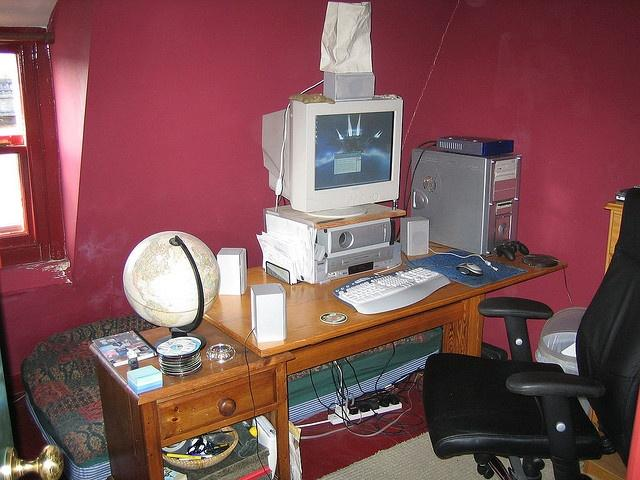Kursi: (423, 186, 639, 478)
Meja: (203, 238, 569, 367)
